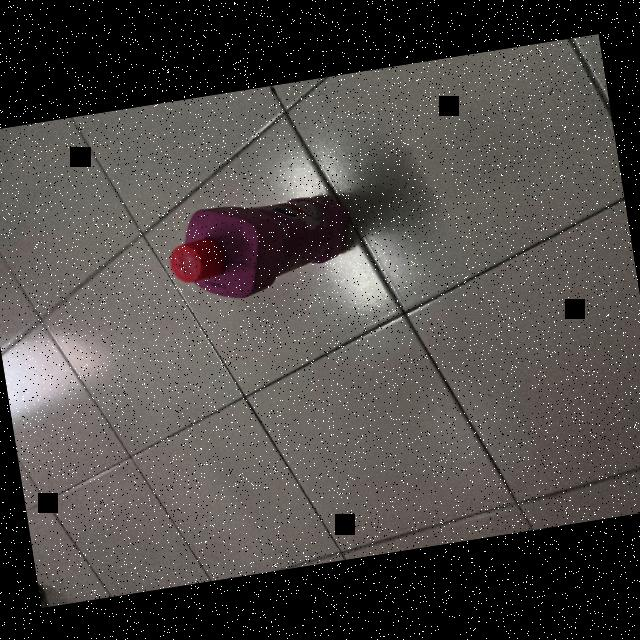chemical_plastic_bottle: (157, 180, 362, 310)
